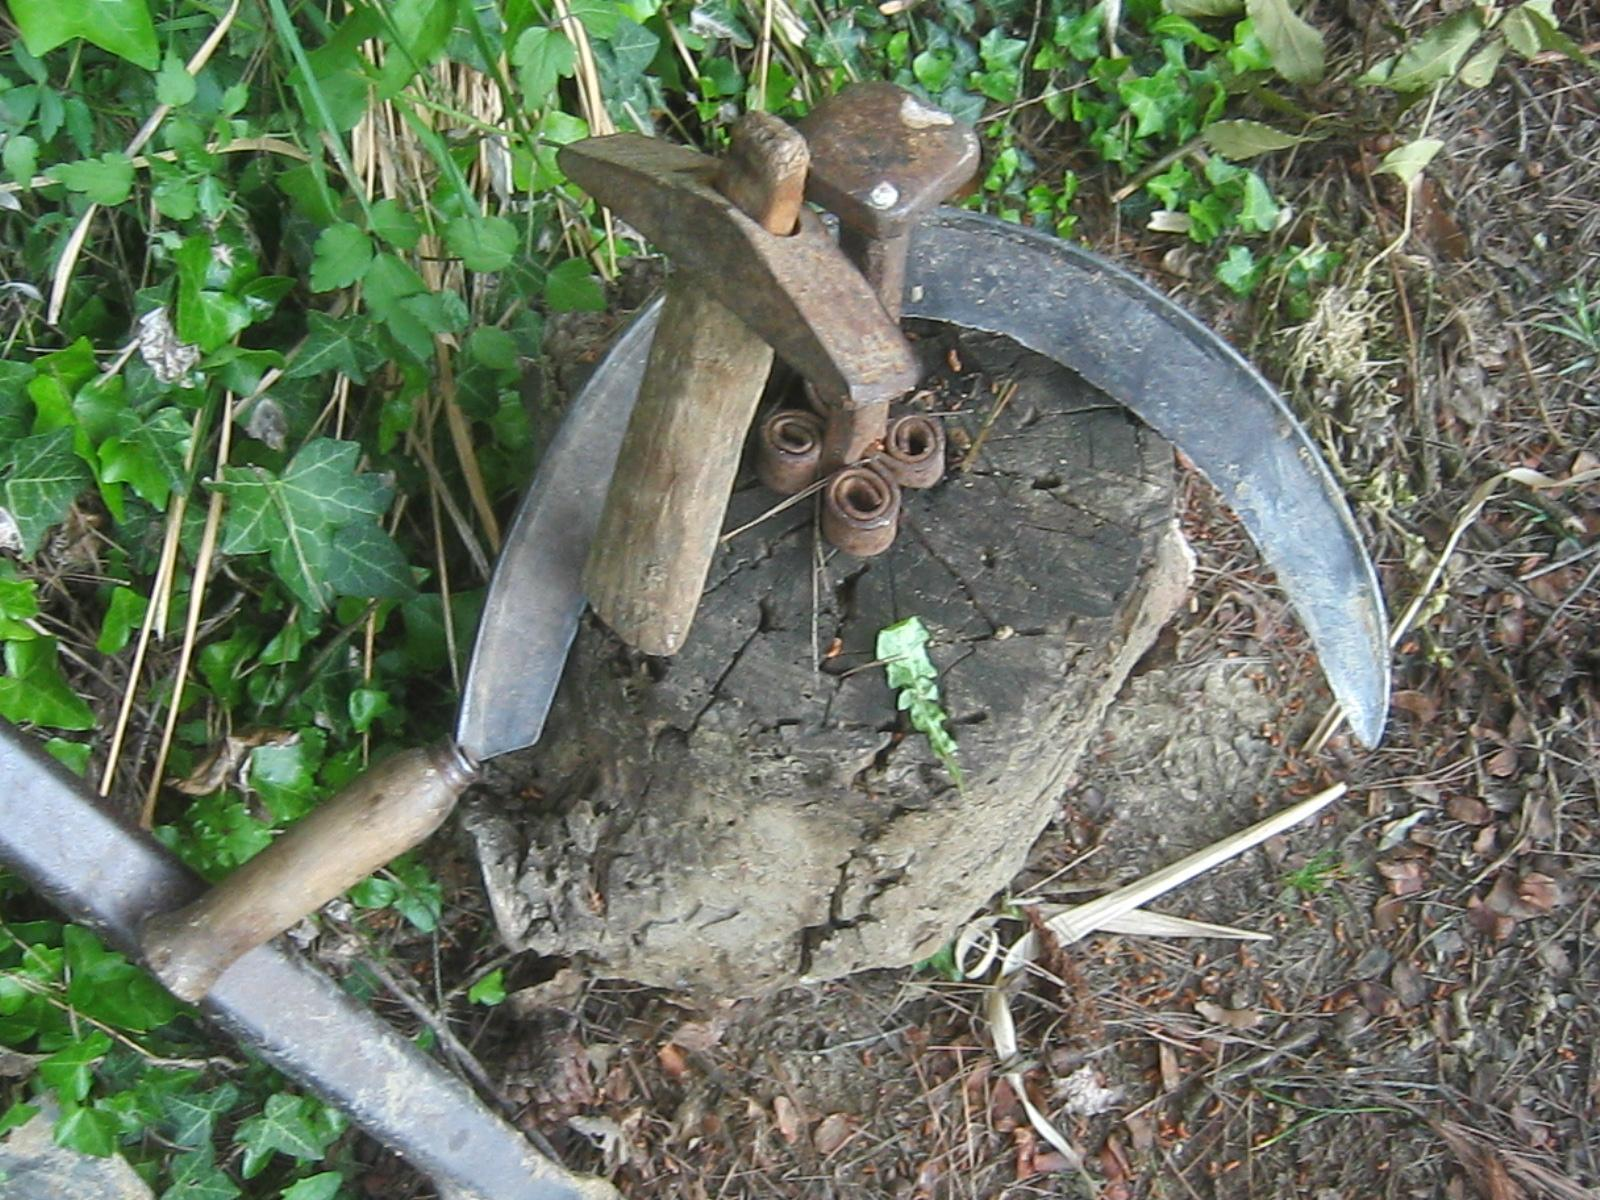foice: (144, 208, 1393, 1001)
